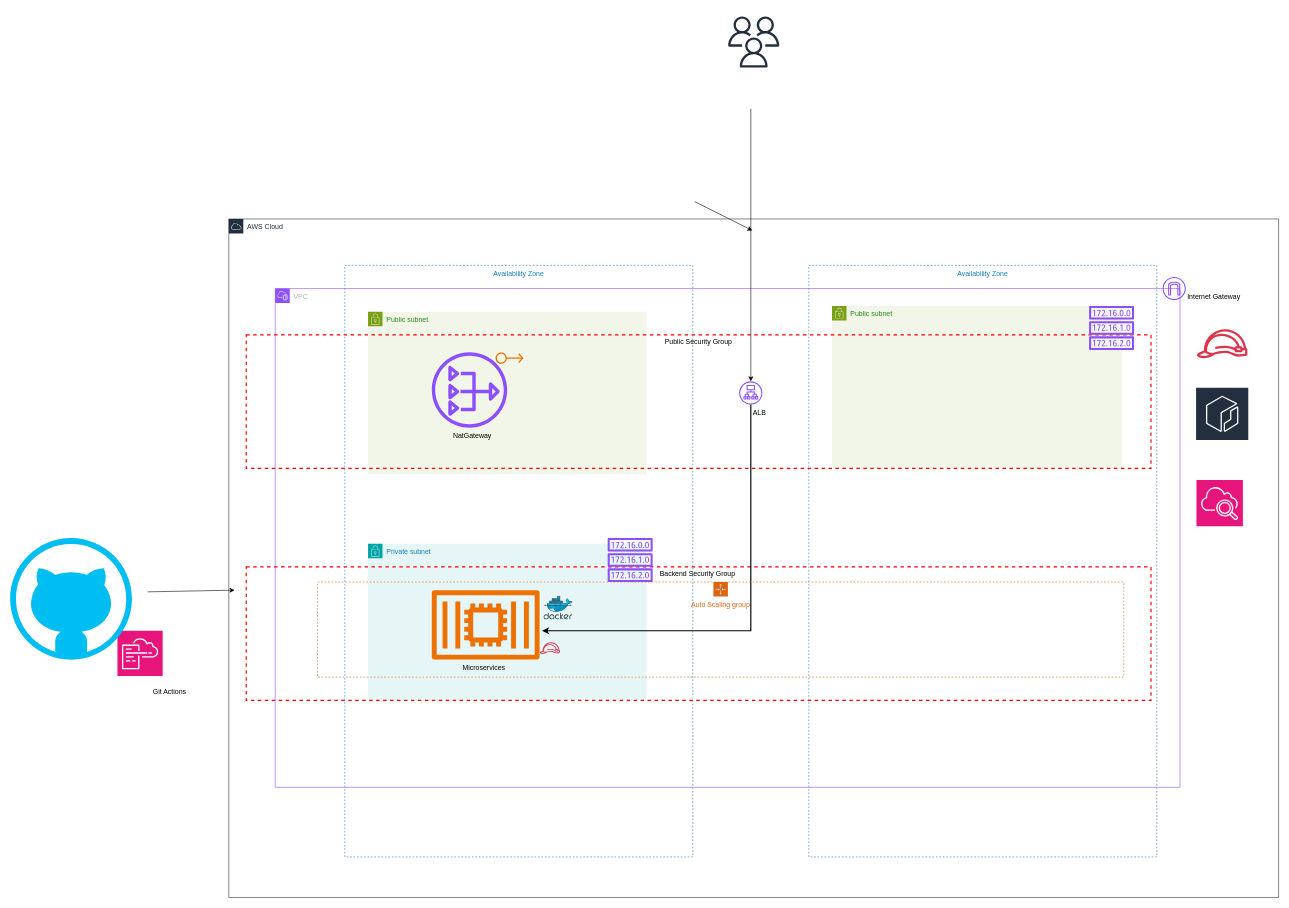
Image size: 1289x908. Some labels were removed from this diagram. Each missing label, with the centre of its shape:
"Amazon ECR" goes at point 1222,419.
"Web Users" goes at point 753,42.
